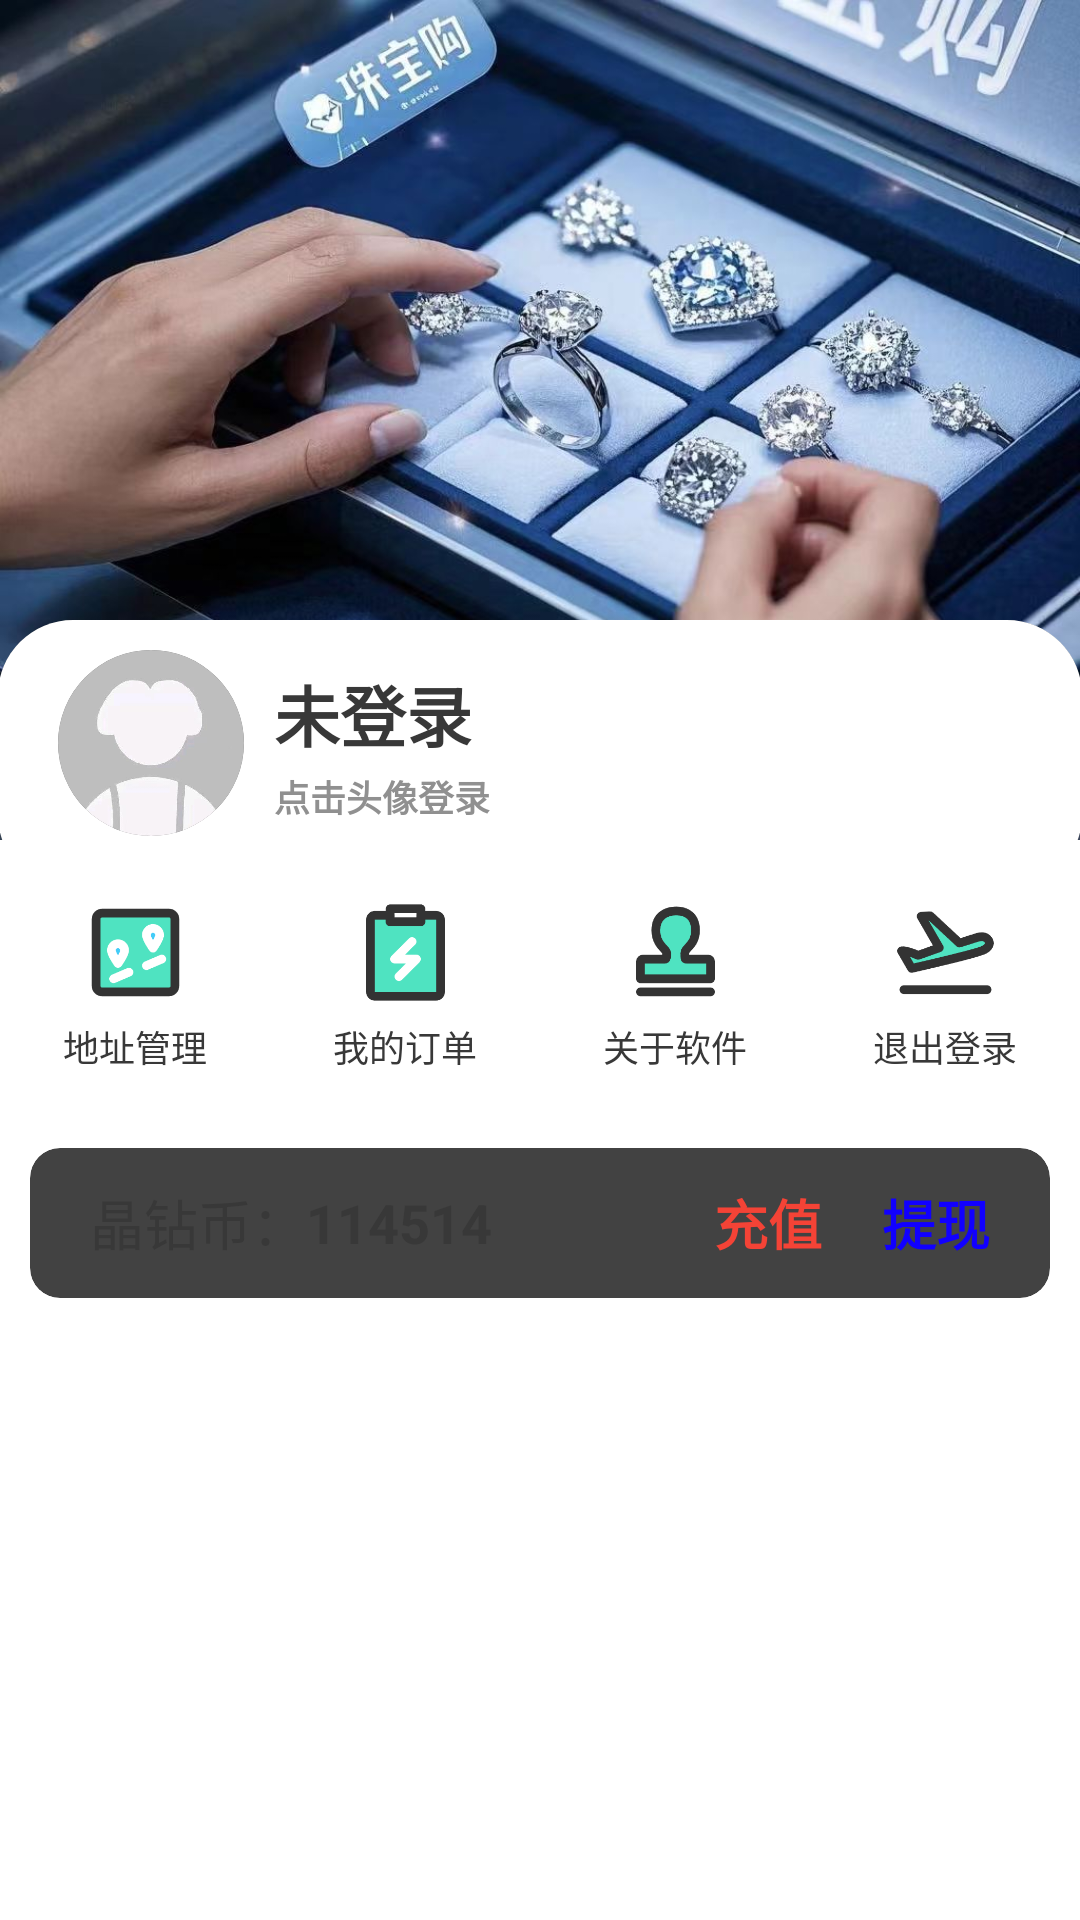

Icons on this 1080×1920 Android screen, each with its box as (left=x1, top=y1, right=x2, bottom=y2):
audit: (left=636, top=906, right=715, bottom=997)
map: (left=91, top=908, right=180, bottom=997)
take off: (left=897, top=911, right=994, bottom=994)
user: (left=58, top=650, right=244, bottom=836)
